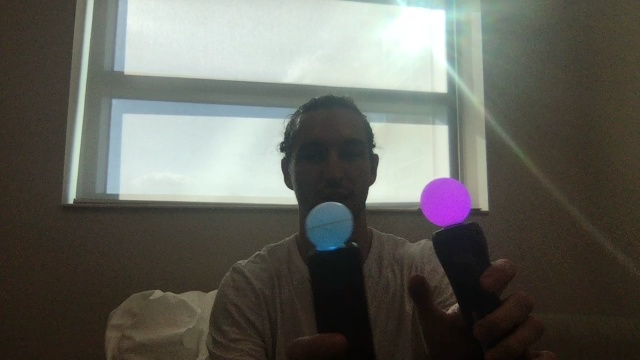wand: (422, 178, 471, 223), (309, 203, 354, 249)
